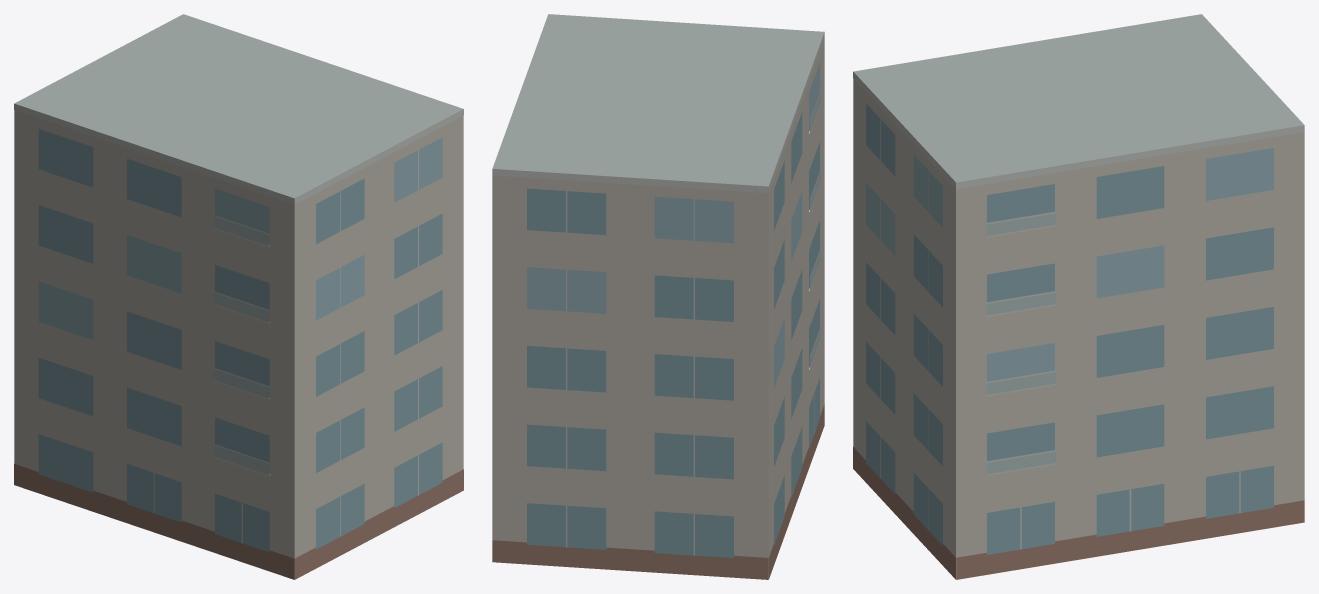
File: survey-upis-32976970.glb
3 views of the same model, side by side, from view 1: azimuth 30°, elevation 25°; view 2: azimuth 150°, elevation 25°; view 3: azimuth 270°, elevation 25° (orthographic). The views are drawn at different scales.
Visible parts, largest first — view 1: survey-upis-32976970.tmp; view 2: survey-upis-32976970.tmp; view 3: survey-upis-32976970.tmp.
Part boxes in pixels (x1,y1,x2,y2): survey-upis-32976970.tmp: [14, 14, 463, 579]; survey-upis-32976970.tmp: [492, 14, 824, 579]; survey-upis-32976970.tmp: [853, 14, 1304, 579].
Bounding box in the file's own units: 13.11 × 14.4 × 14.84.
